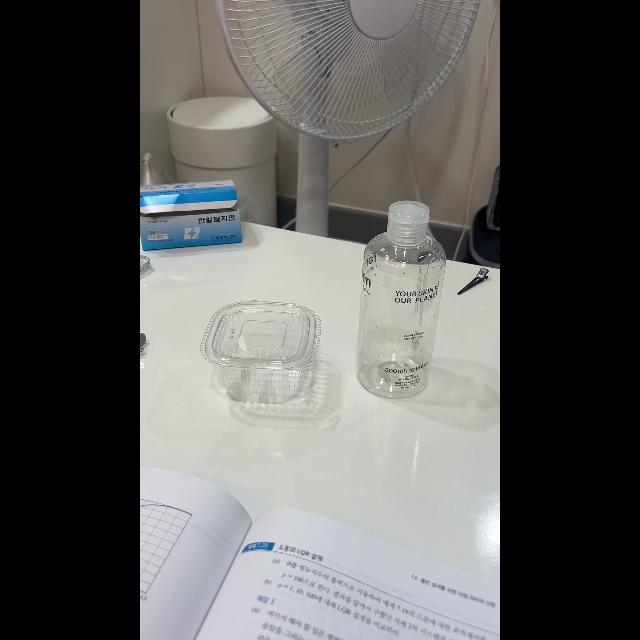clean: (357, 204, 448, 392), (202, 301, 322, 404)
